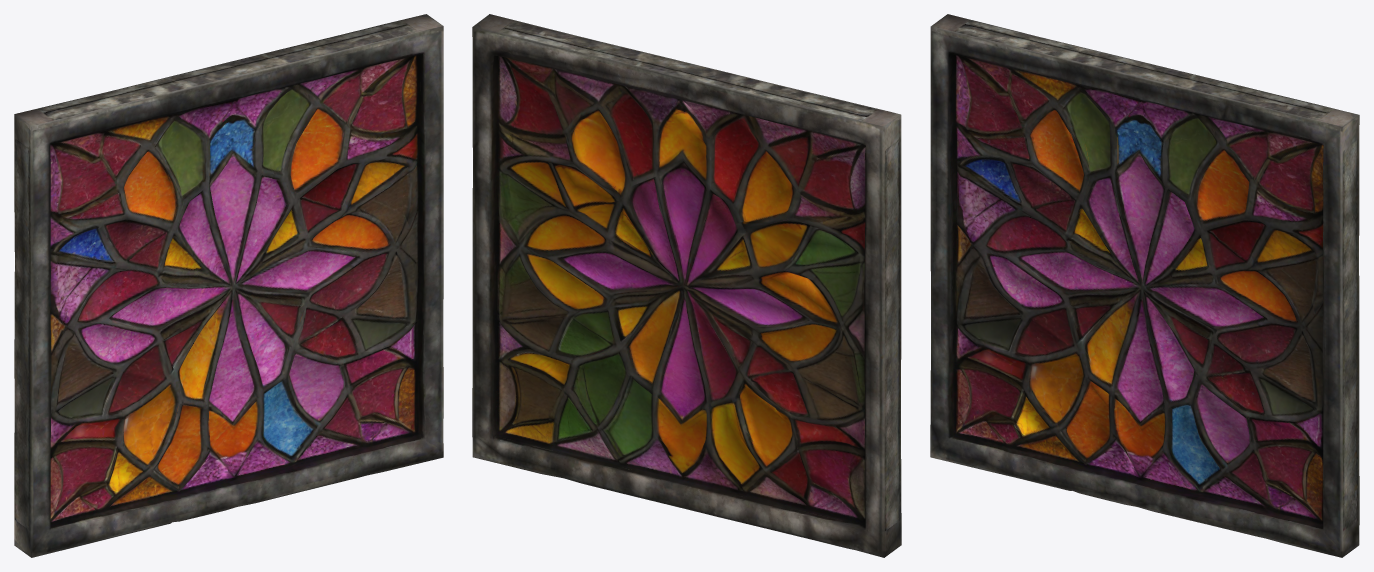
Rendered from testGlassTile.glb.
3 renders of one model, left to right at view 1: azimuth 30°, elevation 25°; view 2: azimuth 150°, elevation 25°; view 3: azimuth 330°, elevation 25°, orthographic.
Parts seen in each view (by area): view 1: Mesh_0; view 2: Mesh_0; view 3: Mesh_0.
Part boxes in pixels (<box>): Mesh_0: <box>14,14,443,557</box>; Mesh_0: <box>472,14,901,557</box>; Mesh_0: <box>930,14,1359,557</box>.
Bounding box in the file's own units: 1 × 1 × 0.073.
1 material, 1 textured.
